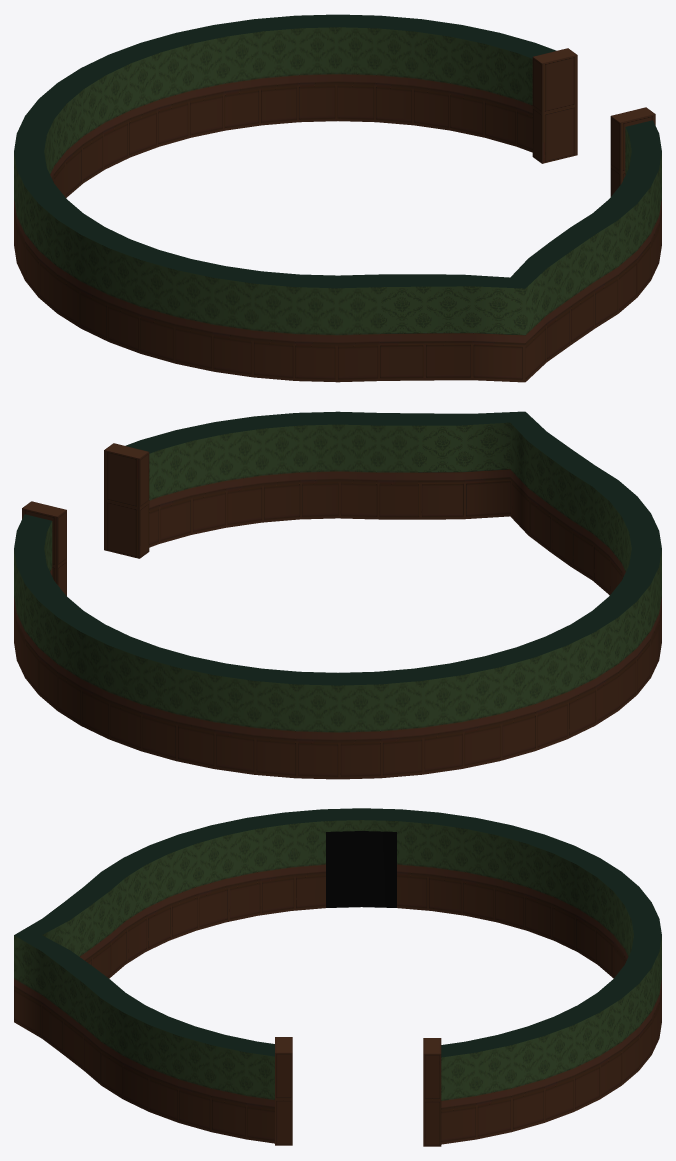
The model's file is Onion_House.fbx.
3 views of the same model, one above another, from view 1: azimuth 30°, elevation 25°; view 2: azimuth 150°, elevation 25°; view 3: azimuth 270°, elevation 25° (orthographic). The views are drawn at different scales.
Parts seen in each view (by area): view 1: Onion_House; view 2: Onion_House; view 3: Onion_House.
Part boxes in pixels (x1=…): Onion_House: x1=14, y1=14, x2=661, y2=382; Onion_House: x1=14, y1=411, x2=661, y2=779; Onion_House: x1=14, y1=808, x2=661, y2=1146.
Bounding box in the file's own units: 12.34 × 2.13 × 13.49.
2 materials, 1 textured.
